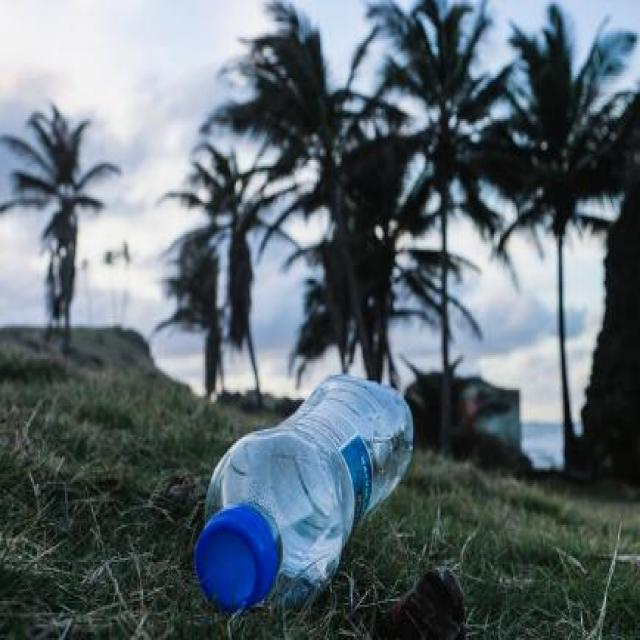bottle: (186, 373, 414, 617)
